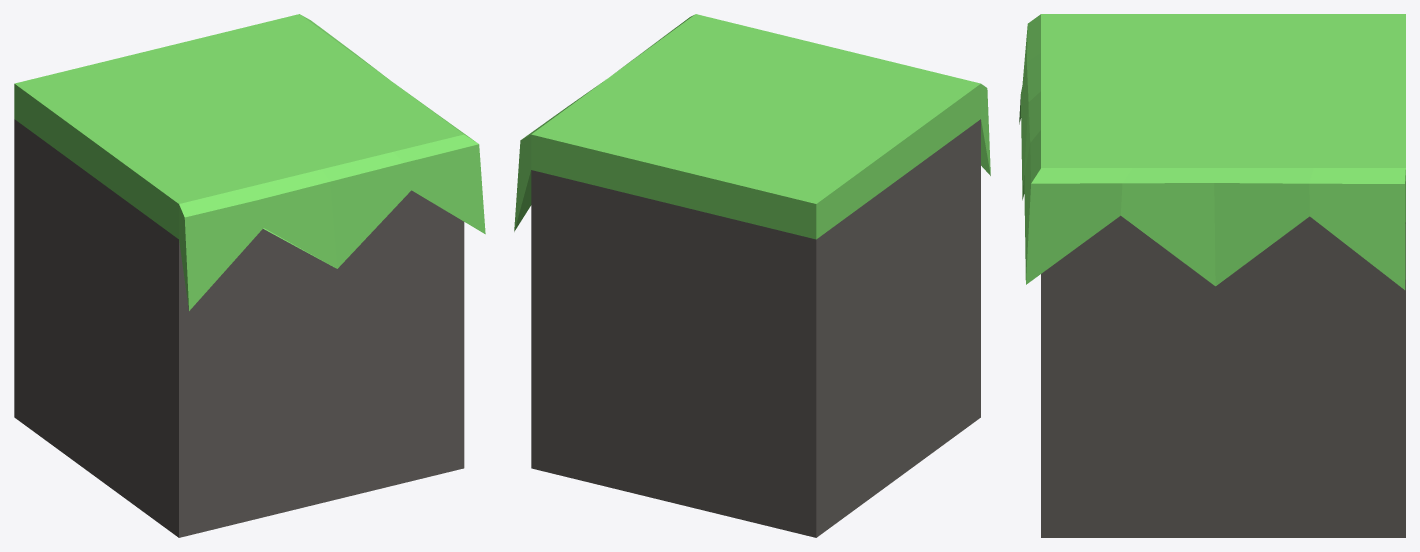
The model's file is cliffcorner.glb.
3 renders of one model, left to right at view 1: azimuth 30°, elevation 25°; view 2: azimuth 150°, elevation 25°; view 3: azimuth 270°, elevation 25°, orthographic. The views are drawn at different scales.
Parts seen in each view (by area): view 1: Cube; view 2: Cube; view 3: Cube.
Boxes of the visible parts, <box> form: Cube: <box>14,14,485,537</box>; Cube: <box>514,14,990,537</box>; Cube: <box>1019,14,1405,537</box>.
Size of the model in its own units: 2.12 by 2.24 by 2.12.
